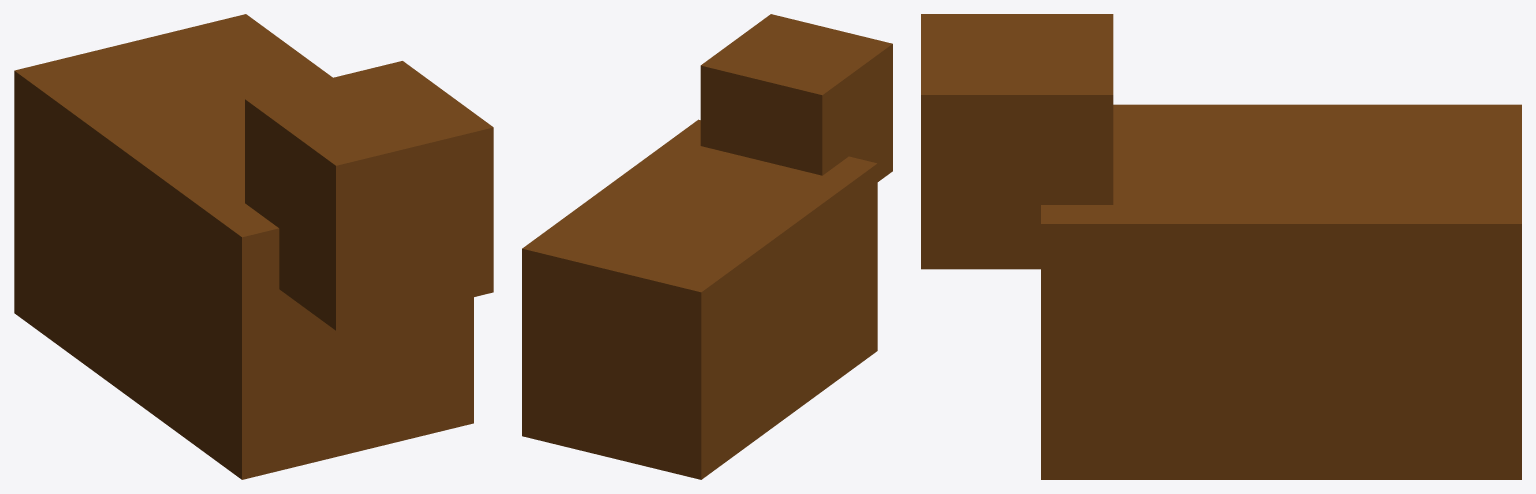
The model's file is elgMeshTemp.fbx.
The picture shows the model from 3 angles, left to right: view 1: azimuth 30°, elevation 25°; view 2: azimuth 150°, elevation 25°; view 3: azimuth 270°, elevation 25°; orthographic projection. The views are drawn at different scales.
Visible parts, largest first — view 1: Cube, Cube.001; view 2: Cube, Cube.001; view 3: Cube, Cube.001.
Part boxes in pixels (x1,y1,x2,y2): Cube: (14, 14, 473, 479); Cube.001: (245, 61, 493, 330); Cube: (522, 119, 877, 479); Cube.001: (700, 14, 892, 181); Cube: (1041, 104, 1521, 479); Cube.001: (921, 14, 1113, 269).
Size of the model in its own units: 89.86 by 128 by 191.
